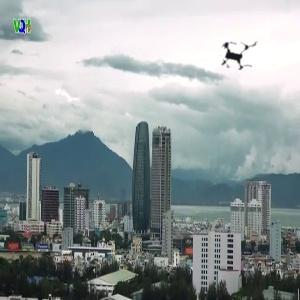drone: (199, 21, 274, 96)
